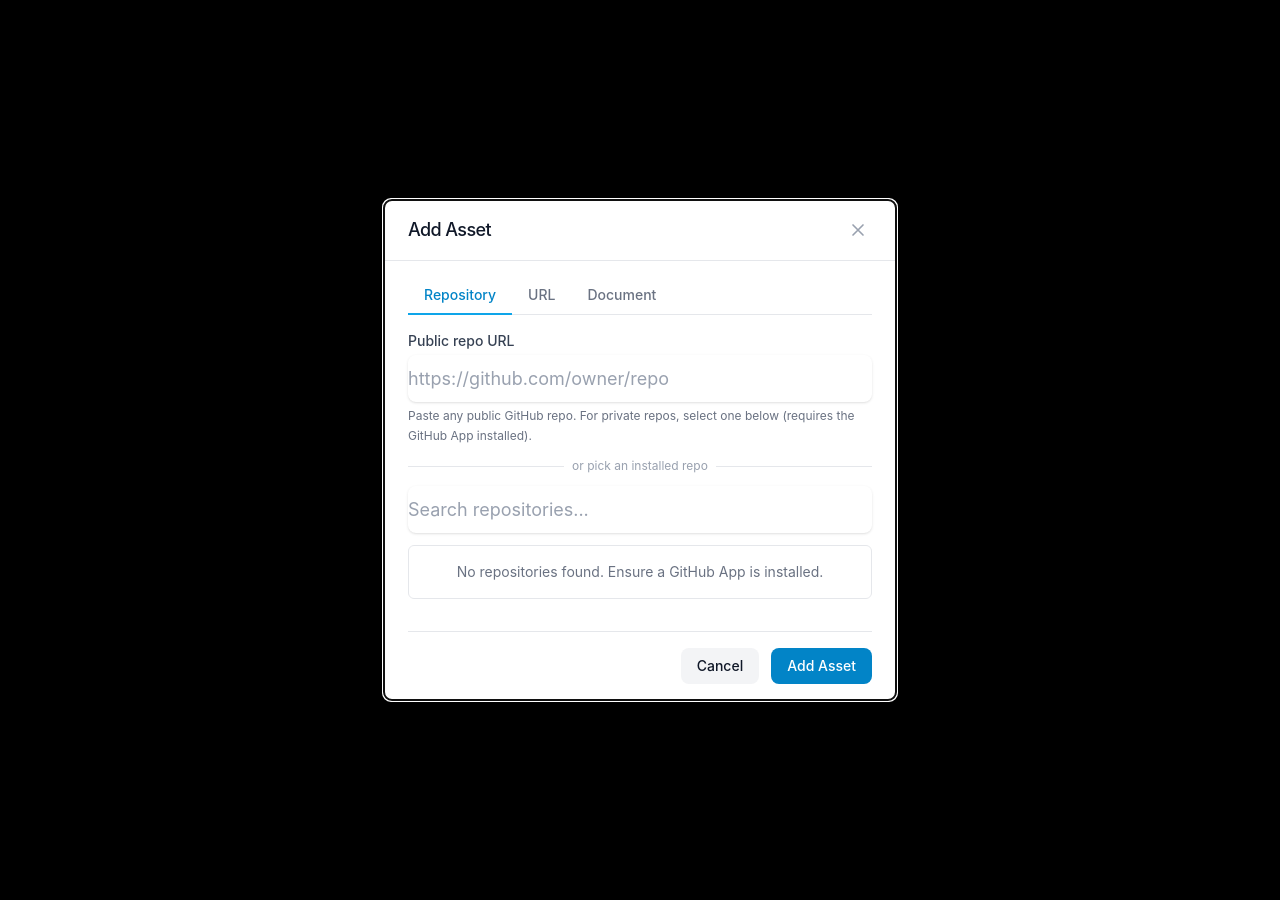
AddAssetDialog — public repo by URL › errors when neither a URL nor a picker selection is provided
Expected: the field with placeholder "https://github.com/owner/repo" is shown, [408,355,872,402]
Click the button "Add Asset" at (822, 666), box [771,648,872,684]
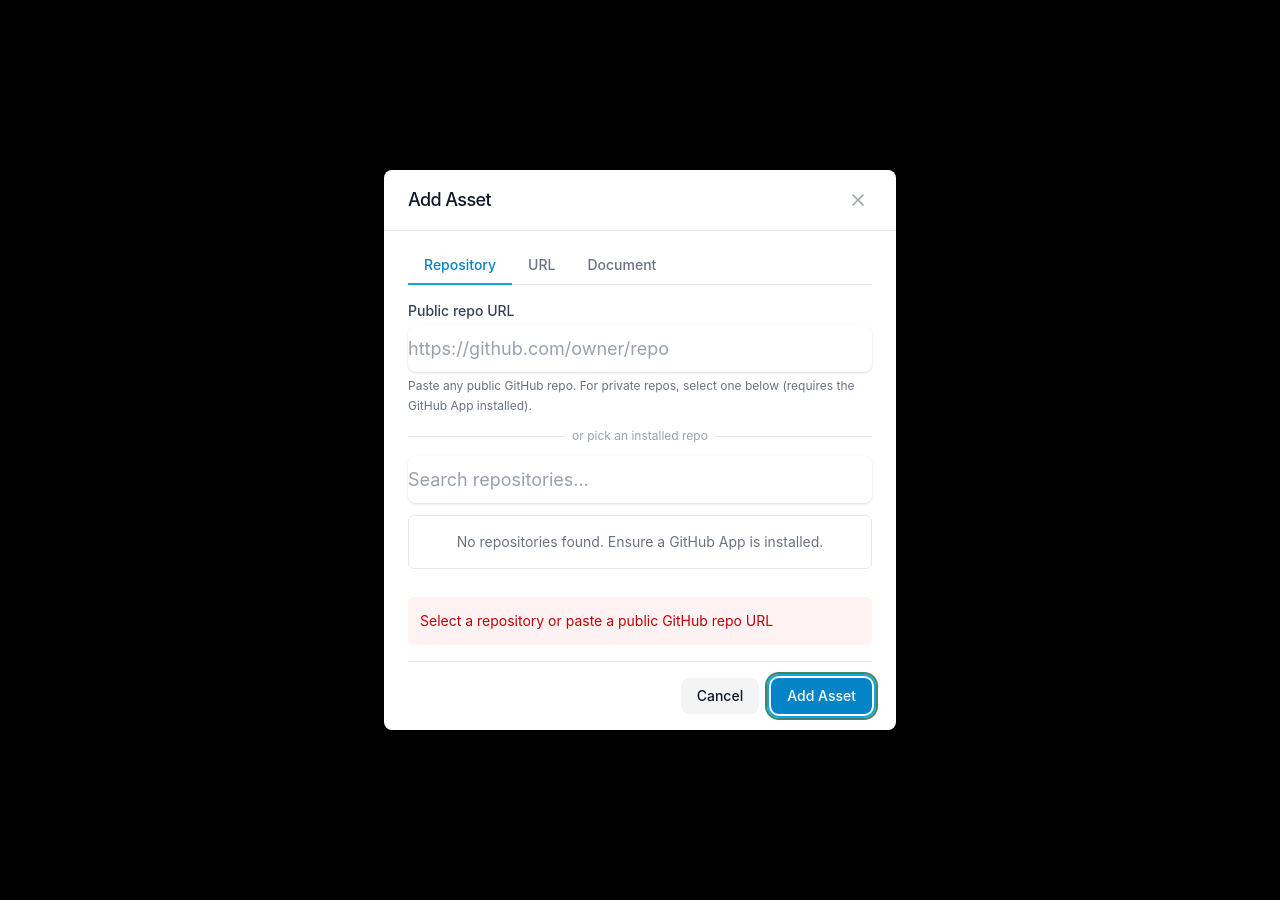
Expected: the text "Select a repository or paste a public GitHub repo URL" is shown, [420,612,773,630]
